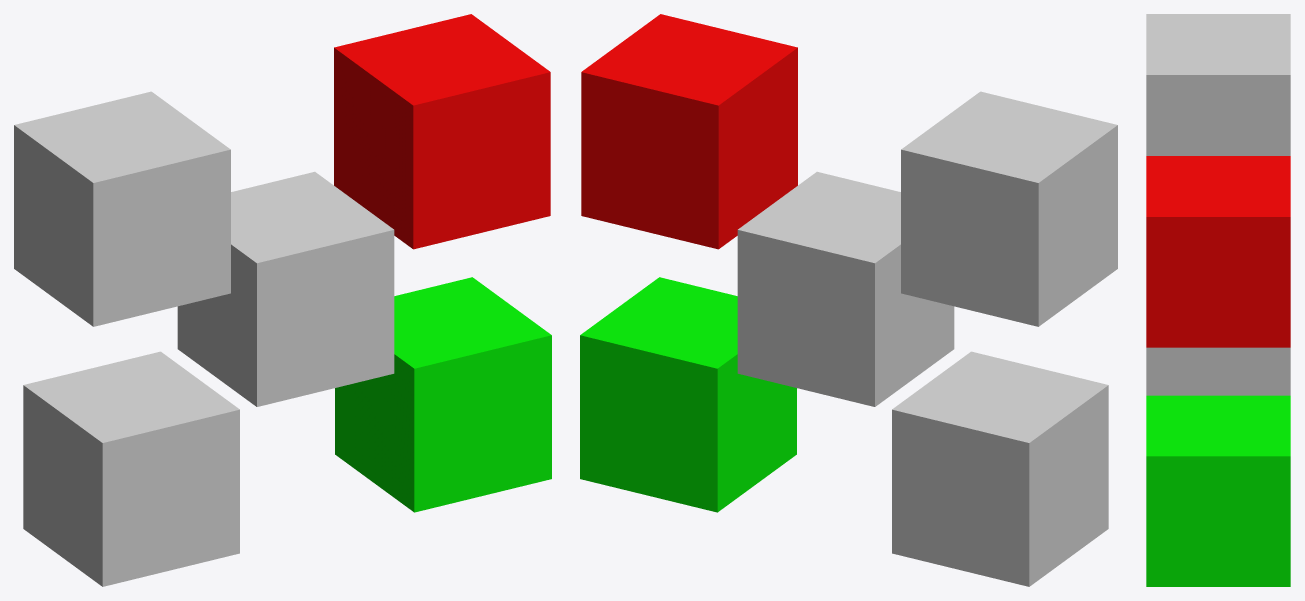
Rendered from Cubes.fbx.
3 views of the same model, side by side, from view 1: azimuth 30°, elevation 25°; view 2: azimuth 150°, elevation 25°; view 3: azimuth 270°, elevation 25° (orthographic). The views are drawn at different scales.
Visible parts, largest first — view 1: Cube.003, Cube.004, Cube.001, Cube.002, Cube; view 2: Cube.003, Cube.004, Cube.001, Cube.002, Cube; view 3: Cube.001, Cube.002, Cube.004, Cube, Cube.003.
Boxes of the visible parts, x1,y1,x2,y2 form: Cube.003: (23,351,239,586); Cube.004: (14,91,230,326); Cube.001: (334,14,550,249); Cube.002: (335,277,551,512); Cube: (177,171,394,406); Cube.003: (892,351,1108,586); Cube.004: (901,91,1117,326); Cube.001: (581,14,797,249); Cube.002: (580,277,796,512); Cube: (737,171,954,406); Cube.001: (1146,156,1290,347); Cube.002: (1146,395,1290,586); Cube.004: (1146,14,1290,155); Cube: (1146,347,1290,386); Cube.003: (1146,386,1290,395).
Size of the model in its own units: 6.67 by 5.67 by 2.
